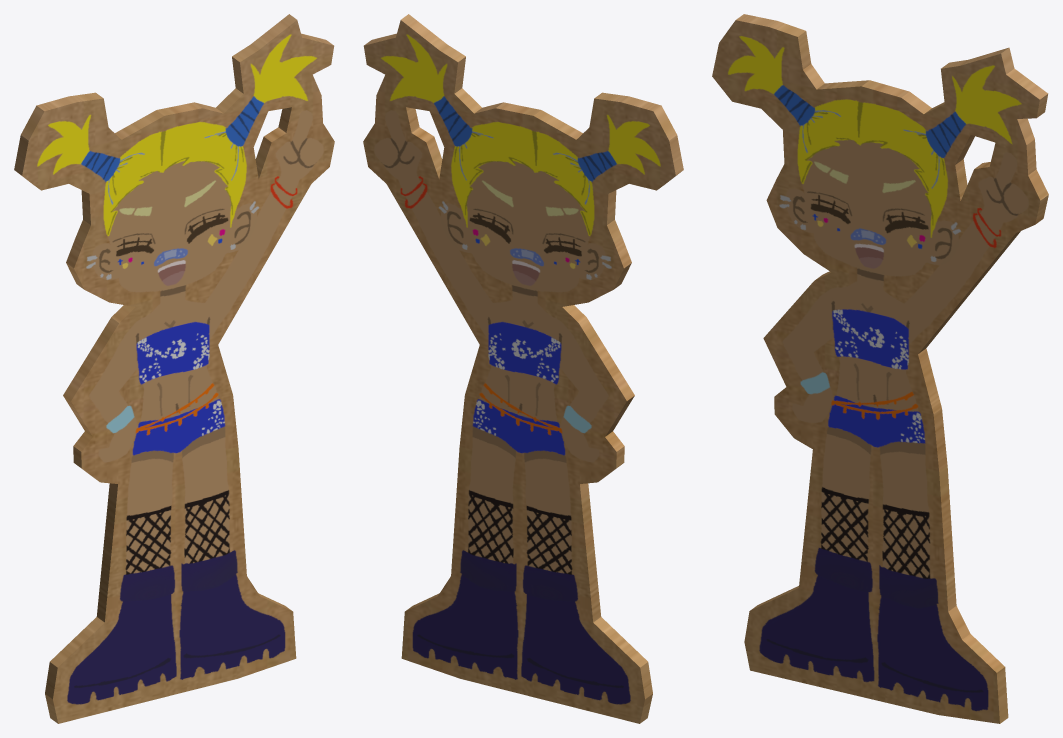
File: NPC_Base_Un_Raver.glb
The picture shows the model from 3 angles, left to right: view 1: azimuth 30°, elevation 25°; view 2: azimuth 150°, elevation 25°; view 3: azimuth 330°, elevation 25°; orthographic projection. The views are drawn at different scales.
Visible parts, largest first — view 1: NPC_Base_Un_Raver; view 2: NPC_Base_Un_Raver; view 3: NPC_Base_Un_Raver.
Boxes of the visible parts, x1,y1,x2,y2 form: NPC_Base_Un_Raver: [14, 14, 334, 723]; NPC_Base_Un_Raver: [363, 14, 683, 723]; NPC_Base_Un_Raver: [712, 14, 1048, 723].
Bounding box in the file's own units: 0.9159 × 1.81 × 0.0407.
1 material, 1 textured.
